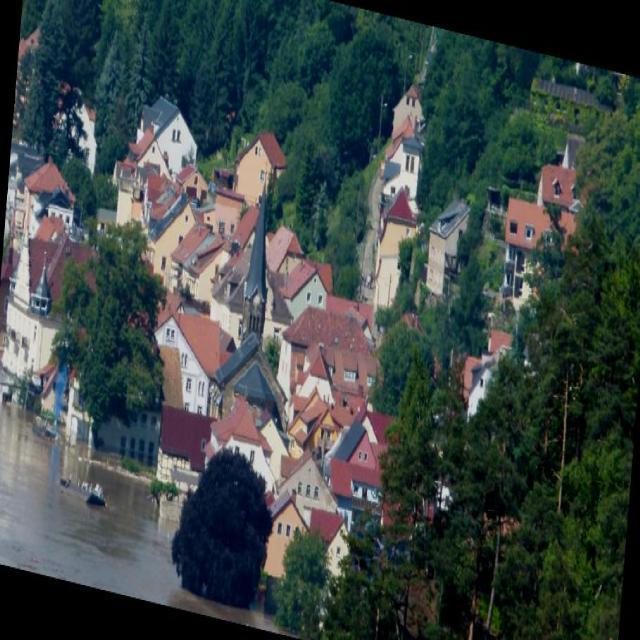flood: (0, 374, 199, 610)
